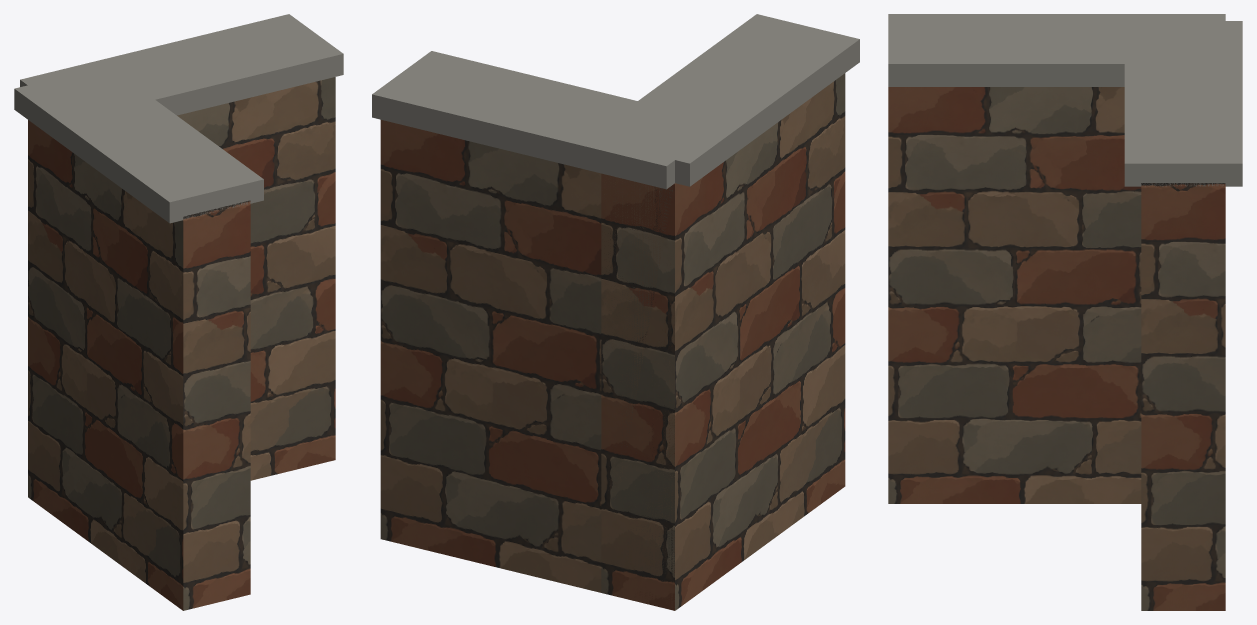
The model's file is wall_corner.glb.
3 renders of one model, left to right at view 1: azimuth 30°, elevation 25°; view 2: azimuth 150°, elevation 25°; view 3: azimuth 270°, elevation 25°, orthographic. The views are drawn at different scales.
Parts seen in each view (by area): view 1: wall_corner; view 2: wall_corner; view 3: wall_corner.
Boxes of the visible parts, box(x1,y1,x2,y2) form: wall_corner: box(14, 14, 343, 610); wall_corner: box(372, 14, 859, 610); wall_corner: box(888, 14, 1242, 610).
Size of the model in its own units: 2.1 by 2.92 by 2.1.
Materials: 2 (1 with a texture image).
